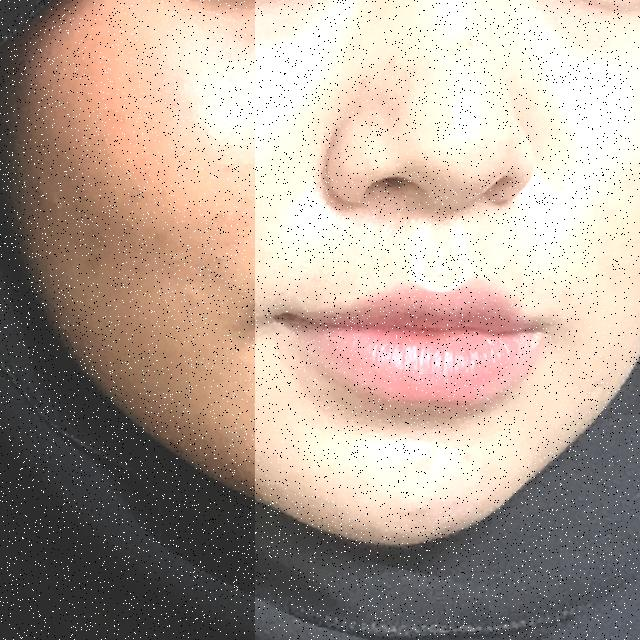mendengar: (0, 0, 255, 640)
